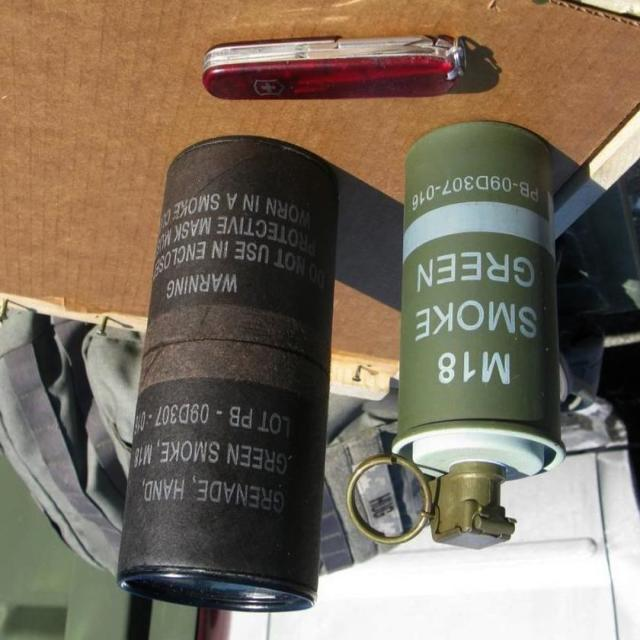grenade: (118, 137, 339, 614), (348, 121, 567, 552)
